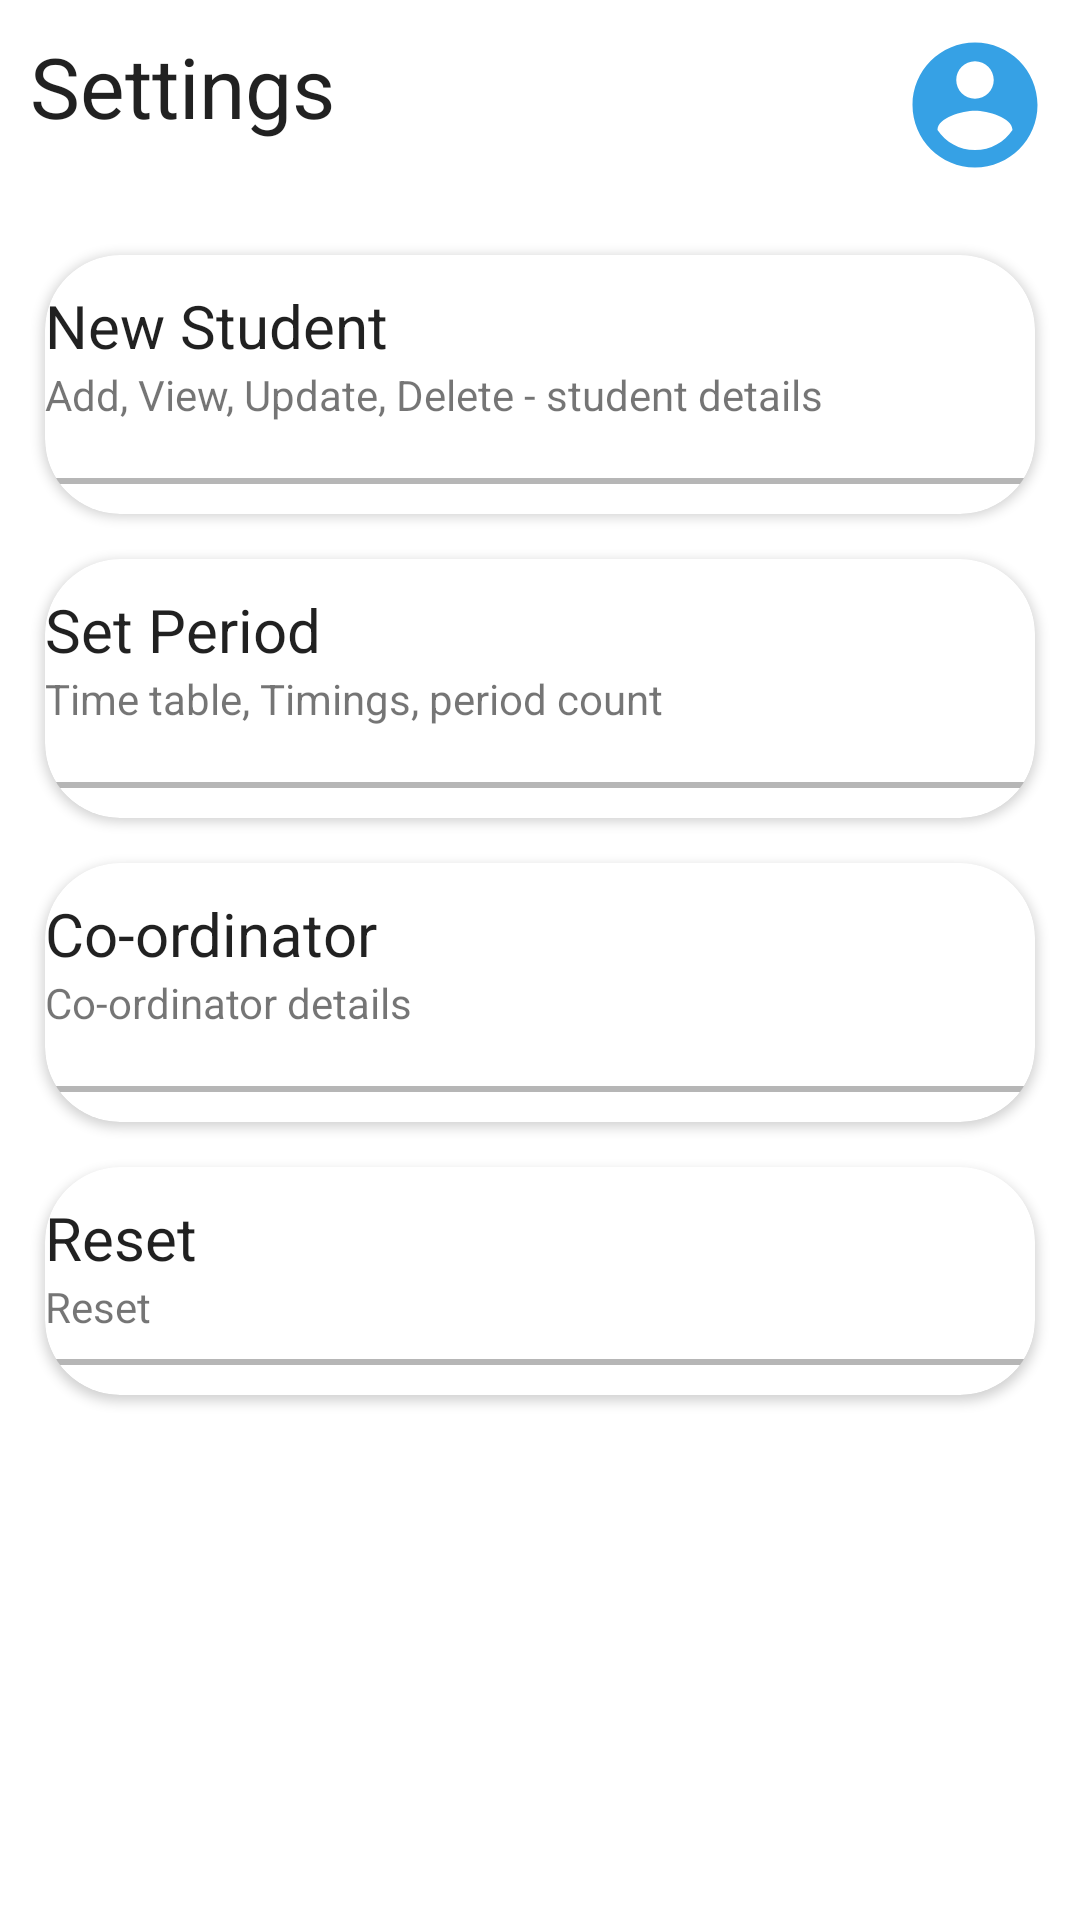

Screen size 1080x1920. Icon name, then its center in pixels as (x=x, y=y):
account: (x=975, y=105)
